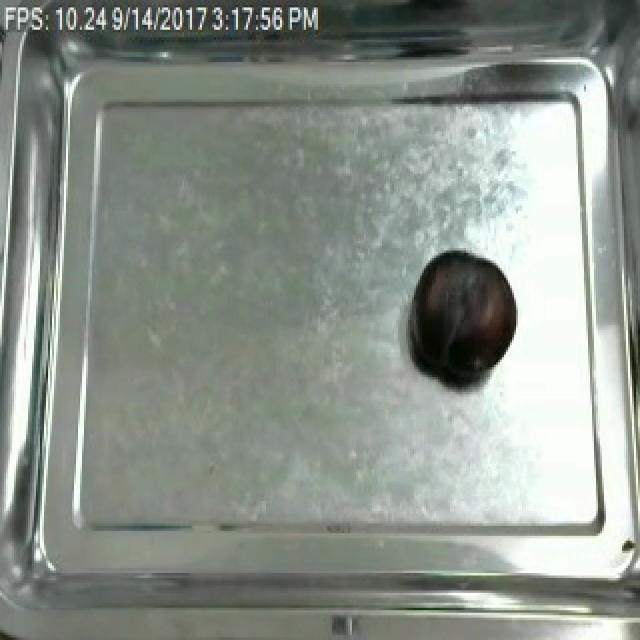Fruit: (408, 248, 520, 385)
